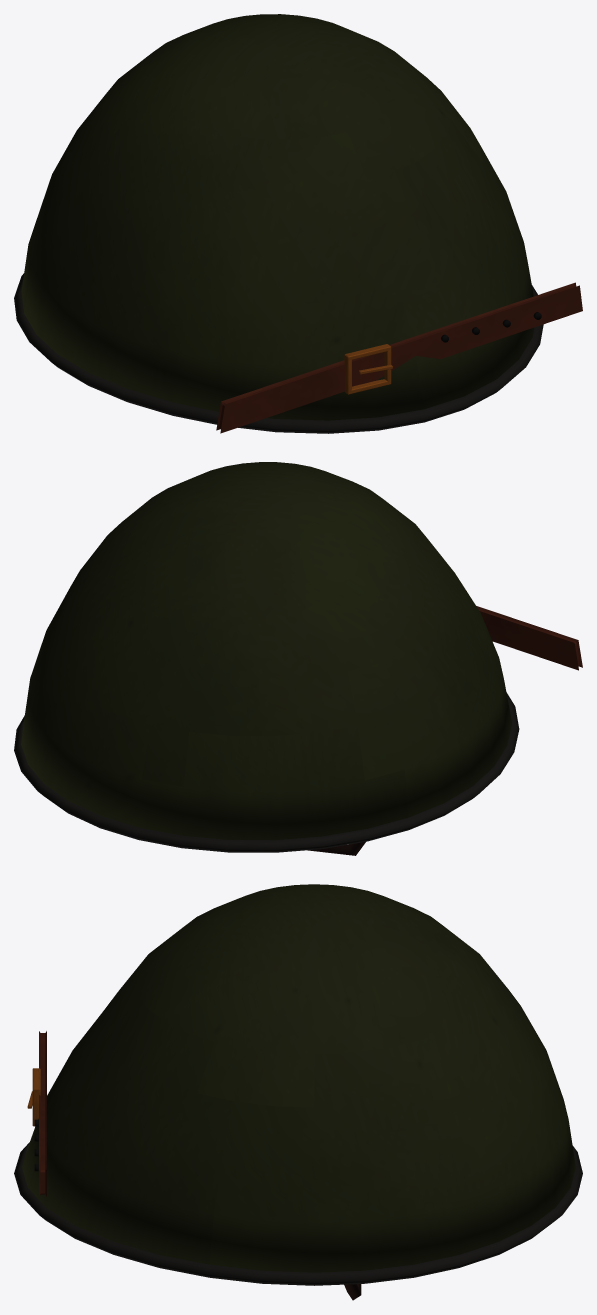
The model's file is m1_style_helmet_LOD1.glb.
The picture shows the model from 3 angles, top to bottom: view 1: azimuth 30°, elevation 25°; view 2: azimuth 150°, elevation 25°; view 3: azimuth 270°, elevation 25°; orthographic projection. The views are drawn at different scales.
Visible parts, largest first — view 1: Closed double-wall olive steel shell, Weathered leather strap across front, Elliptical rolled steel rim; view 2: Closed double-wall olive steel shell, Elliptical rolled steel rim, Weathered leather strap across front; view 3: Closed double-wall olive steel shell, Elliptical rolled steel rim, Weathered leather strap across front.
Part boxes in pixels (left/top/right/bottom): Closed double-wall olive steel shell: left=21, top=14, right=534, bottom=420; Weathered leather strap across front: left=216, top=282, right=582, bottom=433; Elliptical rolled steel rim: left=14, top=273, right=543, bottom=433; Closed double-wall olive steel shell: left=21, top=462, right=511, bottom=840; Elliptical rolled steel rim: left=14, top=692, right=519, bottom=852; Weathered leather strap across front: left=476, top=606, right=582, bottom=670; Closed double-wall olive steel shell: left=22, top=884, right=575, bottom=1272; Elliptical rolled steel rim: left=14, top=1142, right=582, bottom=1285; Weathered leather strap across front: left=39, top=1031, right=46, bottom=1196.
Bounding box in the file's own units: 0.321 × 0.2542 × 0.3546.
6 materials, 6 textured.
